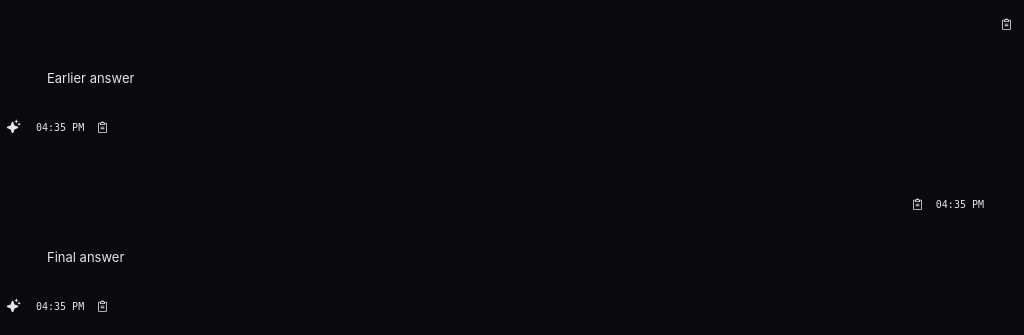
ChatThread message polish › offers copy actions for completed user and assistant transcript messages
Expected: the button named "Copy user message" is shown, top-left (906, 193), bottom-right (930, 217)
Click the button named "Copy assistant message" below "Final answer": (102, 306) top-left (90, 294), bottom-right (114, 318)
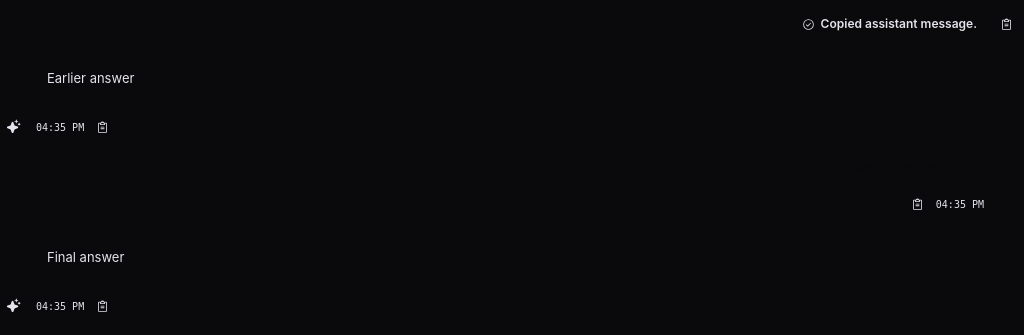
Expected: the message named "Copy status" reads "Copied assistant message.", top-left (821, 16), bottom-right (977, 31)
